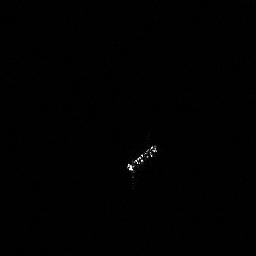ship: (123, 141, 163, 175)
